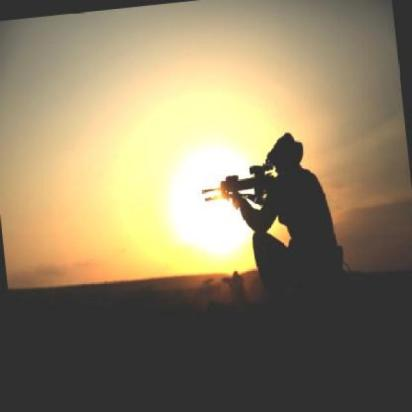Gun: (195, 157, 283, 218)
